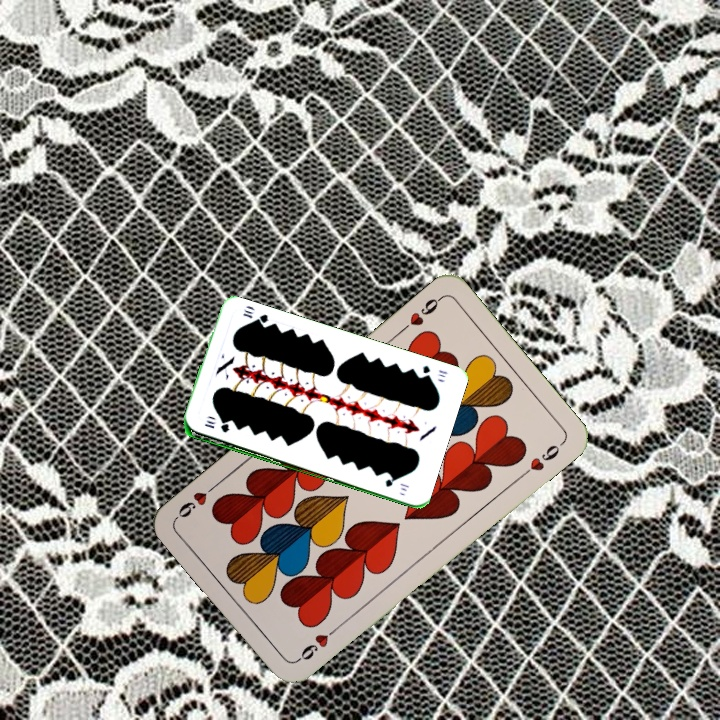G10: (419, 361, 450, 382), (200, 420, 232, 435)
H9: (292, 622, 342, 665), (396, 292, 445, 335)
